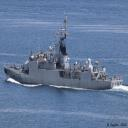Fragata: (4, 15, 124, 92)
